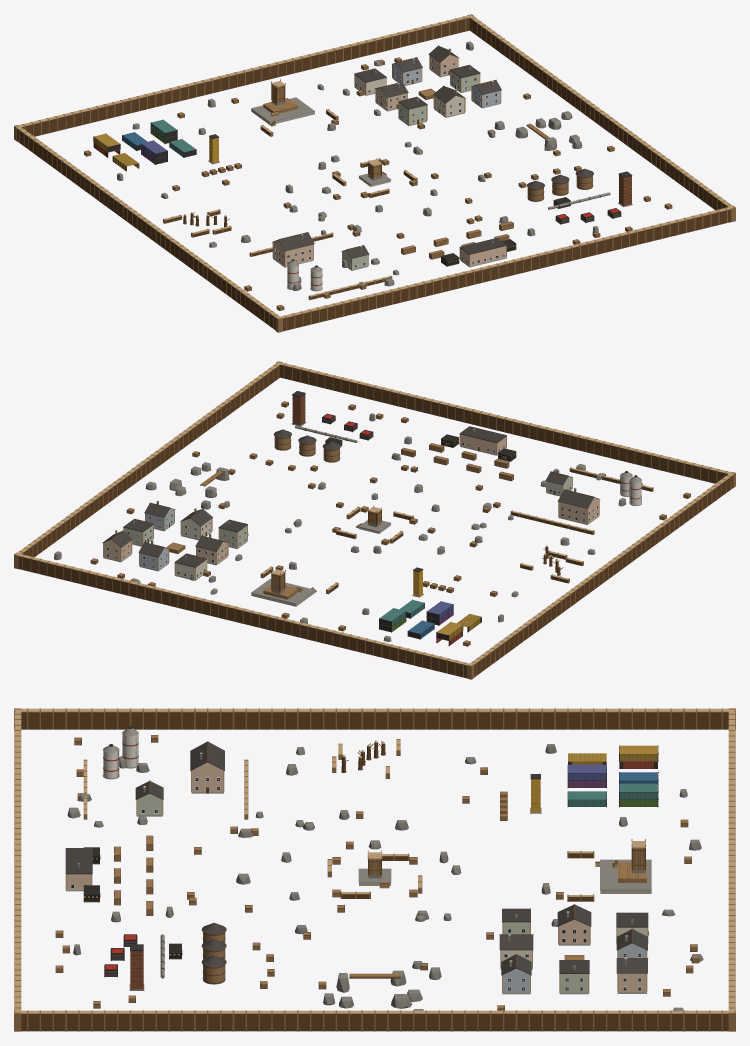
Rendered from ilha.glb.
3 renders of one model, top to bottom at view 1: azimuth 30°, elevation 25°; view 2: azimuth 150°, elevation 25°; view 3: azimuth 270°, elevation 25°, orthographic. The views are drawn at different scales.
Parts seen in each view (by area): view 1: map_wood_dark.013, map_wood.013, map_wood_light.011, map_roof_slate.009, map_rock.005, map_wall_1.007, map_wall_2.008, map_stone_dark.012, map_stone.010, map_wall_0.008, map_wall_3.006, map_trim.010 (+4 smaller); view 2: map_wood_dark.013, map_wood.013, map_wood_light.011, map_roof_slate.009, map_rock.005, map_wall_1.007, map_wall_2.008, map_stone_dark.012, map_stone.010, map_wall_0.008, map_steel_d.008, map_wall_3.006 (+2 smaller); view 3: map_wood_dark.013, map_wood.013, map_wood_light.011, map_roof_slate.009, map_rock.005, map_wall_1.007, map_stone_dark.012, map_wall_2.008, map_cont_5.004, map_cont_3.003, map_steel_d.008, map_silo_white.002 (+5 smaller).
Boxes of the visible parts, x1=… form: map_wood_dark.013: x1=17, y1=18, x2=731, y2=331; map_wood.013: x1=14, y1=14, x2=735, y2=332; map_wood_light.011: x1=16, y1=15, x2=733, y2=318; map_roof_slate.009: x1=272, y1=46, x2=593, y2=258; map_rock.005: x1=117, y1=41, x2=598, y2=290; map_wall_1.007: x1=273, y1=55, x2=505, y2=266; map_wall_2.008: x1=342, y1=71, x2=479, y2=269; map_stone_dark.012: x1=251, y1=49, x2=493, y2=250; map_stone.010: x1=251, y1=48, x2=506, y2=270; map_wall_0.008: x1=355, y1=75, x2=464, y2=116; map_wall_3.006: x1=392, y1=63, x2=500, y2=106; map_trim.010: x1=274, y1=59, x2=504, y2=267; map_wood_dark.013: x1=18, y1=365, x2=732, y2=678; map_wood.013: x1=14, y1=361, x2=735, y2=679; map_wood_light.011: x1=16, y1=362, x2=733, y2=665; map_roof_slate.009: x1=102, y1=426, x2=600, y2=567; map_rock.005: x1=54, y1=413, x2=641, y2=641; map_wall_1.007: x1=103, y1=434, x2=598, y2=563; map_wall_2.008: x1=124, y1=476, x2=572, y2=547; map_stone_dark.012: x1=115, y1=429, x2=576, y2=603; map_stone.010: x1=103, y1=446, x2=599, y2=606; map_wall_0.008: x1=175, y1=518, x2=211, y2=579; map_steel_d.008: x1=304, y1=413, x2=637, y2=503; map_wall_3.006: x1=140, y1=508, x2=174, y2=569; map_wood_dark.013: x1=21, y1=712, x2=728, y2=1031; map_wood.013: x1=14, y1=708, x2=735, y2=1031; map_wood_light.011: x1=14, y1=708, x2=735, y2=1013; map_roof_slate.009: x1=65, y1=742, x2=648, y2=975; map_rock.005: x1=67, y1=744, x2=703, y2=1010; map_wall_1.007: x1=66, y1=762, x2=646, y2=992; map_stone_dark.012: x1=78, y1=754, x2=651, y2=969; map_wall_2.008: x1=137, y1=793, x2=588, y2=992; map_cont_5.004: x1=568, y1=783, x2=657, y2=806; map_cont_3.003: x1=568, y1=745, x2=657, y2=764; map_steel_d.008: x1=84, y1=726, x2=181, y2=977; map_silo_white.002: x1=103, y1=734, x2=138, y2=778.
Bounding box in the file's own units: 224 × 14.09 × 224.
